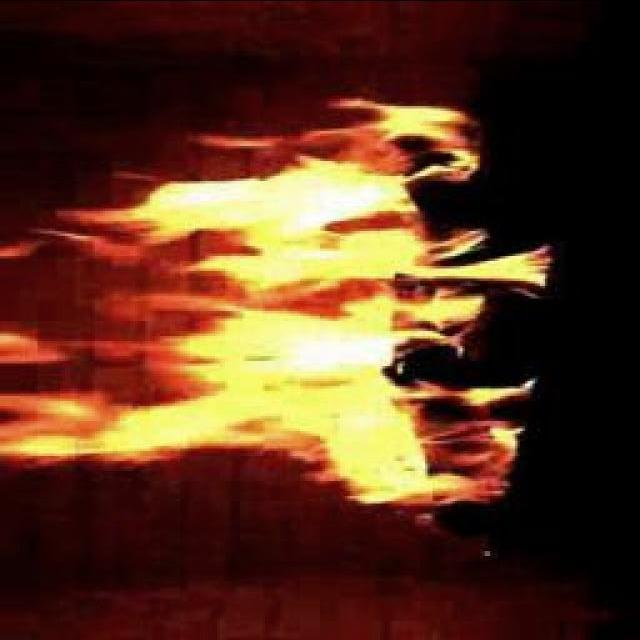Fire: (41, 157, 464, 493)
